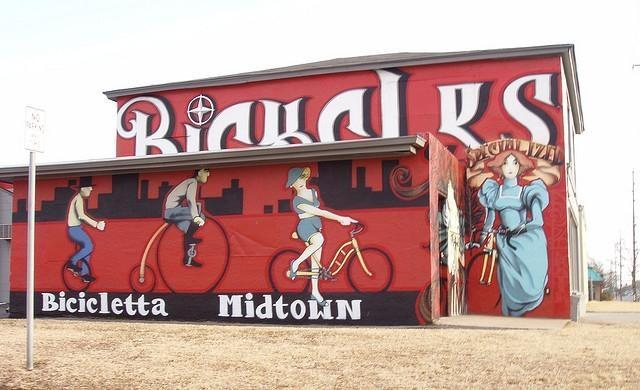bicycle: (267, 222, 391, 292), (128, 215, 230, 295), (464, 228, 500, 317)
